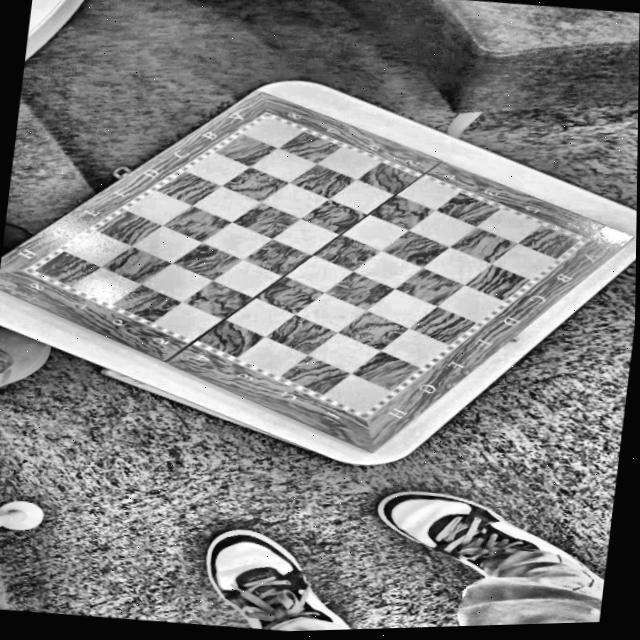chessboard: (0, 91, 622, 441)
white-queen: (0, 477, 70, 557)
